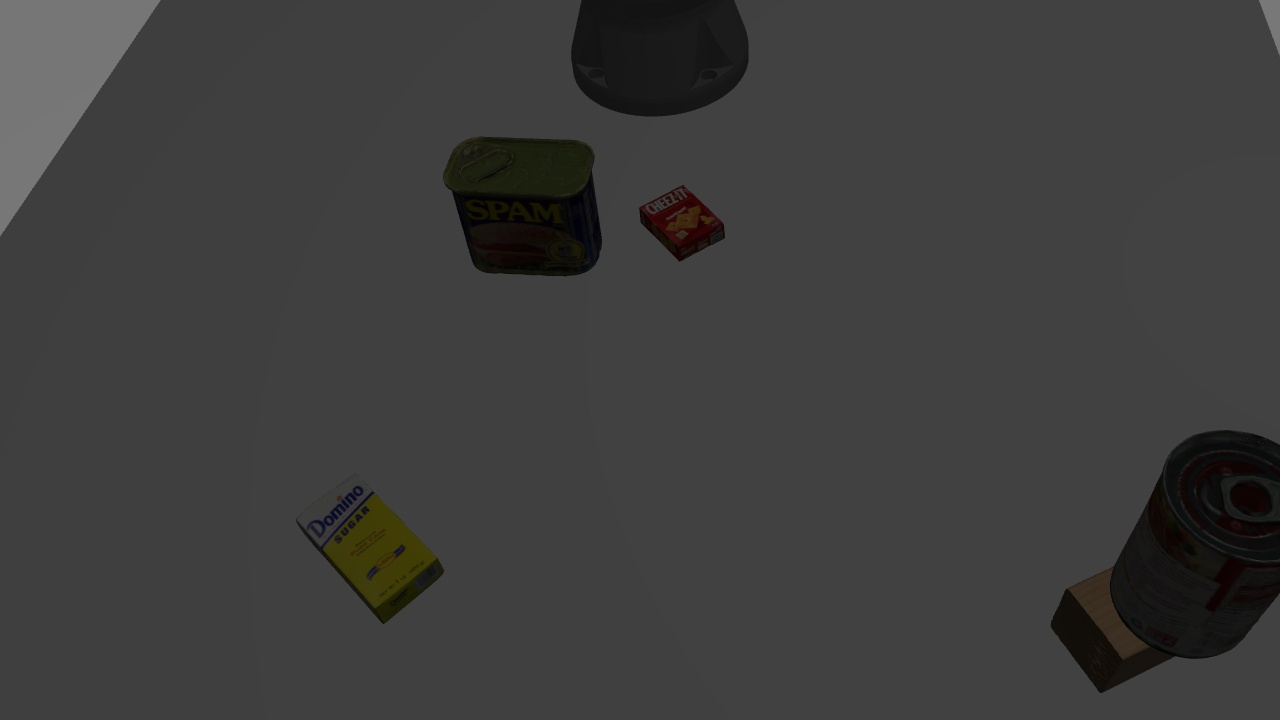cracker_box: (633, 178, 730, 259)
jenga: (288, 470, 457, 628)
potted_meat_can: (440, 133, 604, 279)
tomato_soup_can: (1111, 386, 1276, 677)
wood_block: (1045, 530, 1209, 695), (1044, 555, 1128, 696)
